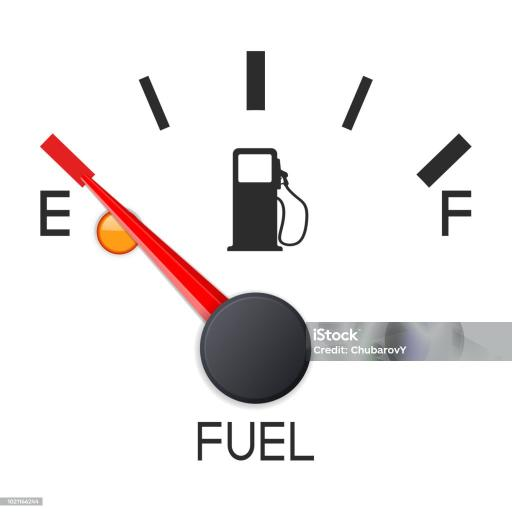empty: (39, 189, 78, 240)
fuel_icon: (225, 149, 309, 256)
full: (438, 191, 480, 243)
guage_area: (28, 40, 492, 416)
needle_center: (200, 282, 315, 407)
needle_tip: (72, 156, 97, 189)
